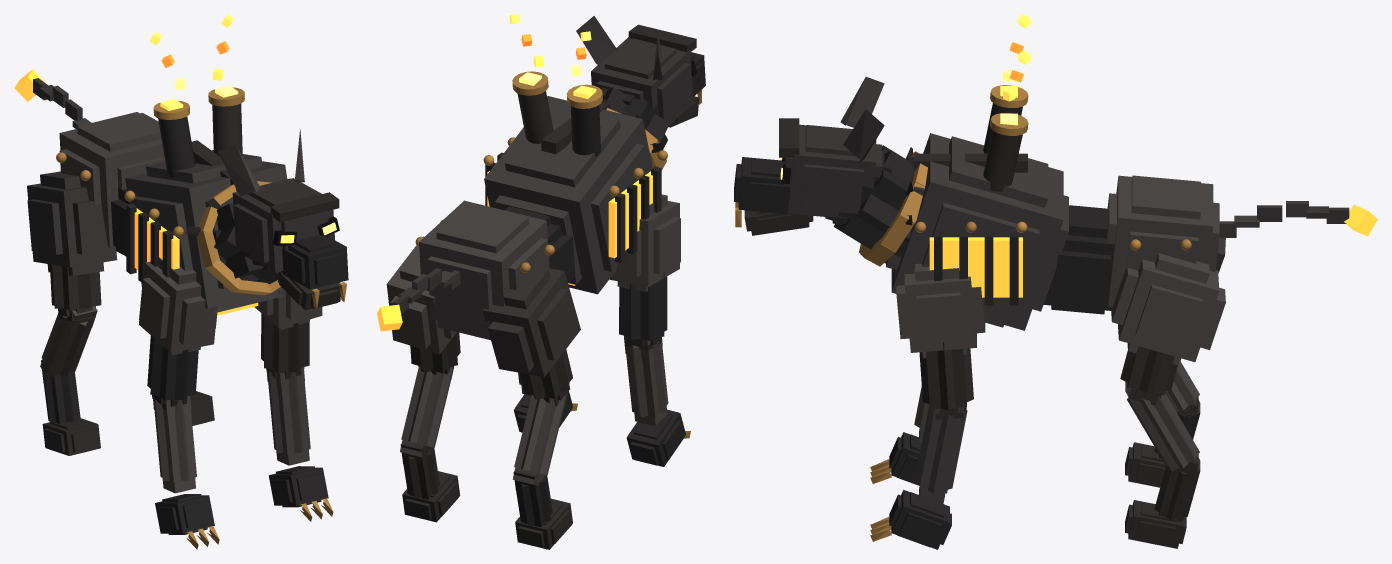
The picture shows the model from 3 angles, left to right: view 1: azimuth 30°, elevation 25°; view 2: azimuth 150°, elevation 25°; view 3: azimuth 270°, elevation 25°; orthographic projection. The views are drawn at different scales.
Parts seen in each view (by area): view 1: SparkHound; view 2: SparkHound; view 3: SparkHound.
Boxes of the visible parts, left/top/right/bottom form: SparkHound: left=14, top=14, right=348, bottom=549; SparkHound: left=377, top=14, right=705, bottom=549; SparkHound: left=734, top=14, right=1377, bottom=549.
Bounding box in the file's own units: 0.436 × 1.17 × 1.43.
